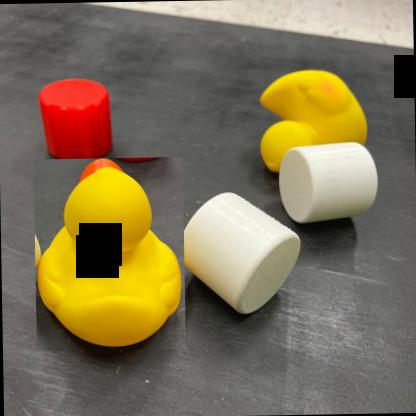duck: (33, 157, 186, 352), (256, 63, 370, 174)
red cylinder: (35, 76, 116, 166)
white cylinder: (175, 187, 305, 319), (274, 140, 380, 225)
